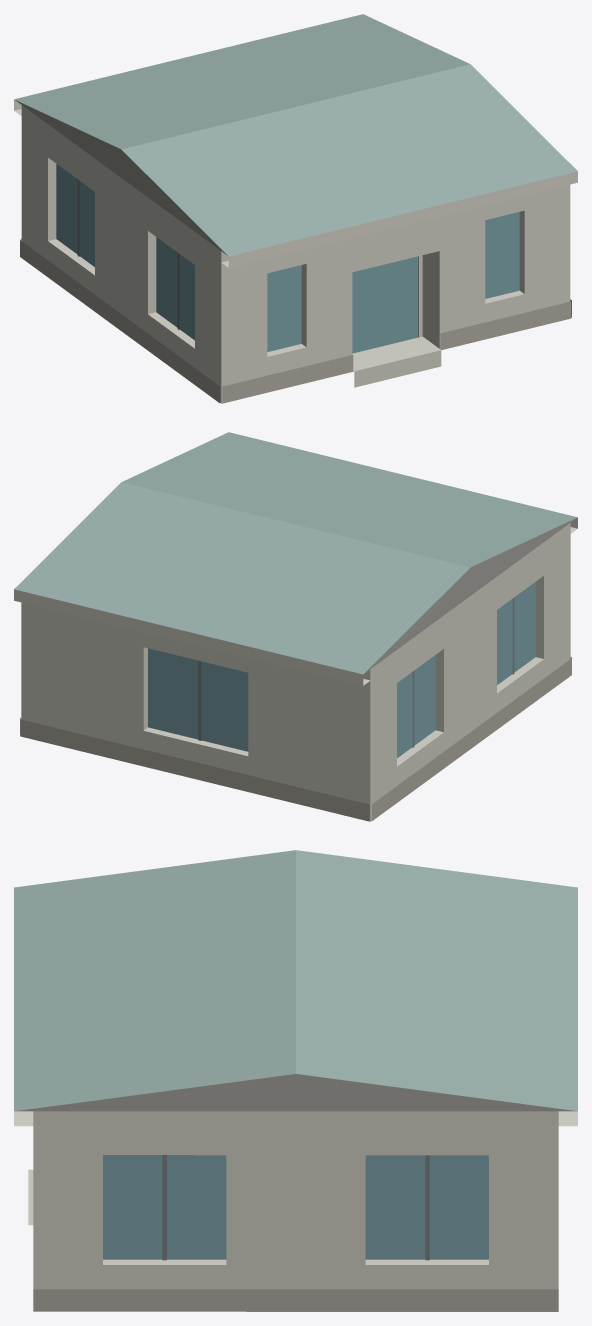
The picture shows the model from 3 angles, top to bottom: view 1: azimuth 30°, elevation 25°; view 2: azimuth 150°, elevation 25°; view 3: azimuth 270°, elevation 25°; orthographic projection. The views are drawn at different scales.
Parts seen in each view (by area): view 1: aux1370623063__roofAccent, aux1370623063__wall, aux1370623063__glass, aux1370623063__base, aux1370623063__trim, aux1370623063__wall2, aux1370623063__entranceThreshold_0; view 2: aux1370623063__roofAccent, aux1370623063__wall, aux1370623063__glass, aux1370623063__base, aux1370623063__trim, aux1370623063__wall2, aux1370623063__frame; view 3: aux1370623063__roofAccent, aux1370623063__wall, aux1370623063__glass, aux1370623063__base, aux1370623063__wall2, aux1370623063__frame, aux1370623063__soffit.
Part boxes in pixels (box(x1,y1,x2,y2)): aux1370623063__roofAccent: box(14, 14, 577, 256); aux1370623063__wall: box(21, 105, 570, 402); aux1370623063__glass: box(56, 164, 519, 353); aux1370623063__base: box(20, 238, 571, 403); aux1370623063__trim: box(14, 99, 577, 267); aux1370623063__wall2: box(15, 100, 227, 255); aux1370623063__entranceThreshold_0: box(352, 336, 441, 387); aux1370623063__roofAccent: box(14, 432, 577, 674); aux1370623063__wall: box(21, 523, 570, 820); aux1370623063__glass: box(148, 582, 535, 758); aux1370623063__base: box(20, 657, 571, 821); aux1370623063__trim: box(14, 517, 577, 685); aux1370623063__wall2: box(364, 518, 576, 673); aux1370623063__frame: box(198, 597, 514, 747); aux1370623063__roofAccent: box(14, 850, 577, 1111); aux1370623063__wall: box(33, 1111, 558, 1289); aux1370623063__glass: box(103, 1155, 488, 1259); aux1370623063__base: box(33, 1289, 558, 1311); aux1370623063__wall2: box(15, 1074, 576, 1111); aux1370623063__frame: box(162, 1155, 429, 1260); aux1370623063__soffit: box(14, 1111, 577, 1126).
Bounding box in the file's own units: 9.7 × 5.15 × 10.25.
